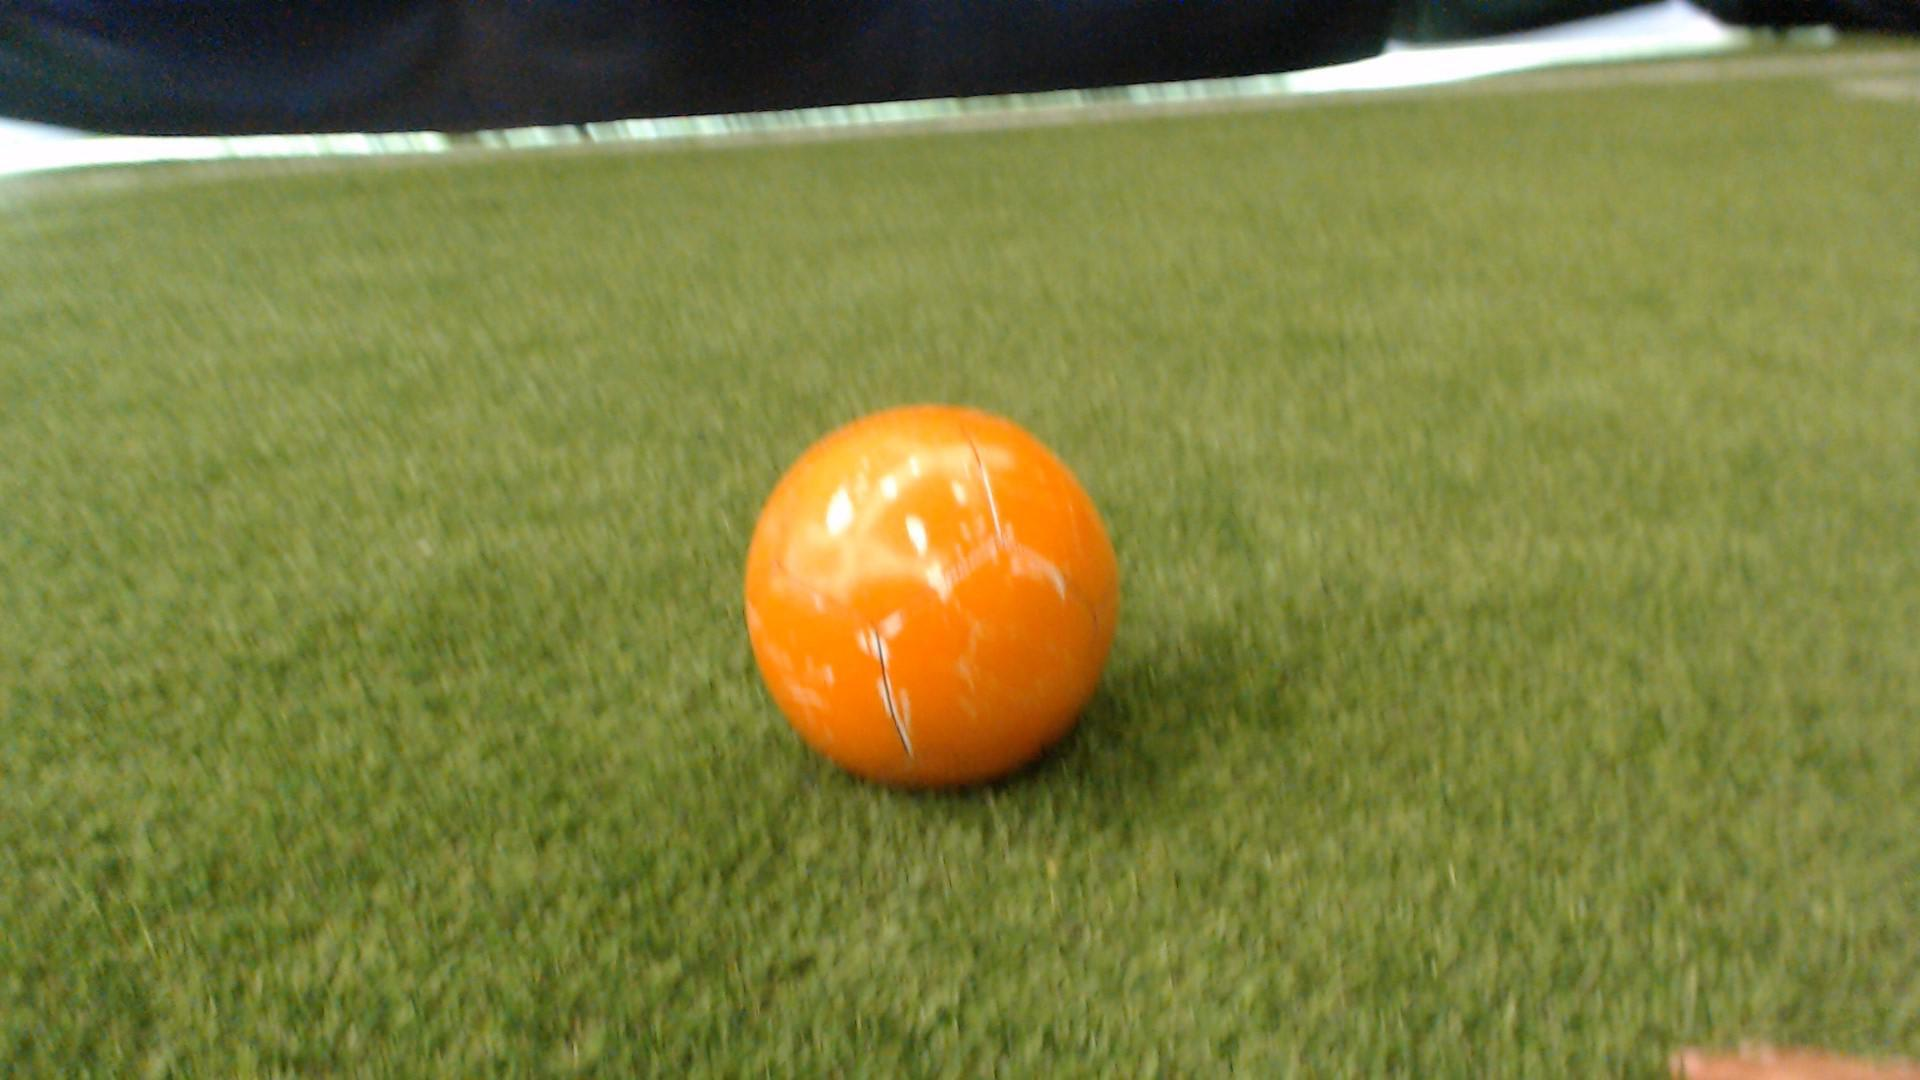bola: (711, 402, 1164, 818)
